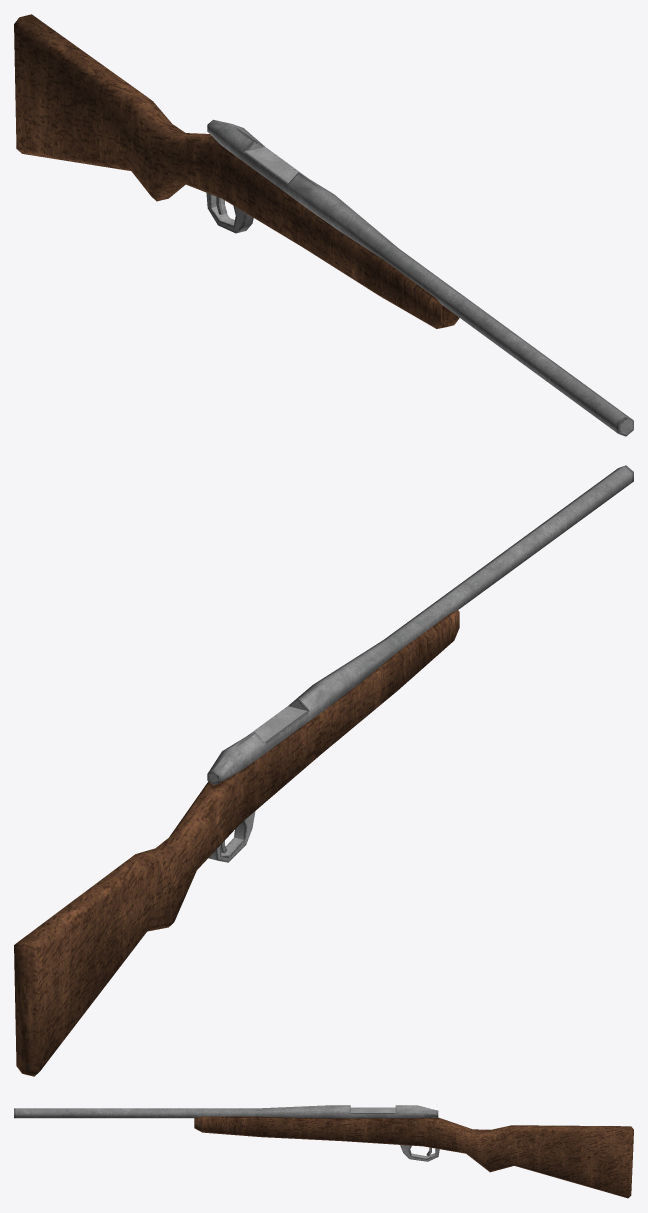
Rendered from hunting_rifle.glb.
The picture shows the model from 3 angles, top to bottom: view 1: azimuth 30°, elevation 25°; view 2: azimuth 150°, elevation 25°; view 3: azimuth 270°, elevation 25°; orthographic projection. The views are drawn at different scales.
Visible parts, largest first — view 1: Hunting rifle; view 2: Hunting rifle; view 3: Hunting rifle.
Boxes of the visible parts, x1=… form: Hunting rifle: x1=14, y1=14, x2=633, y2=436; Hunting rifle: x1=14, y1=465, x2=633, y2=1076; Hunting rifle: x1=14, y1=1105, x2=633, y2=1198.
Size of the model in its own units: 0.0454 by 0.3314 by 2.04.
1 material, 1 textured.
